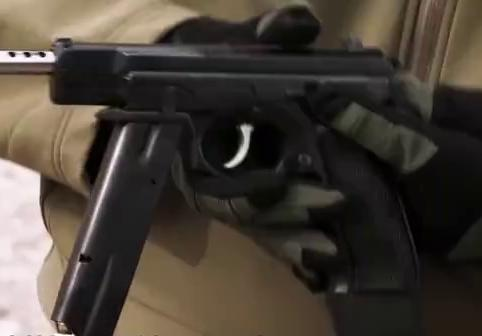gun: (1, 1, 482, 336)
